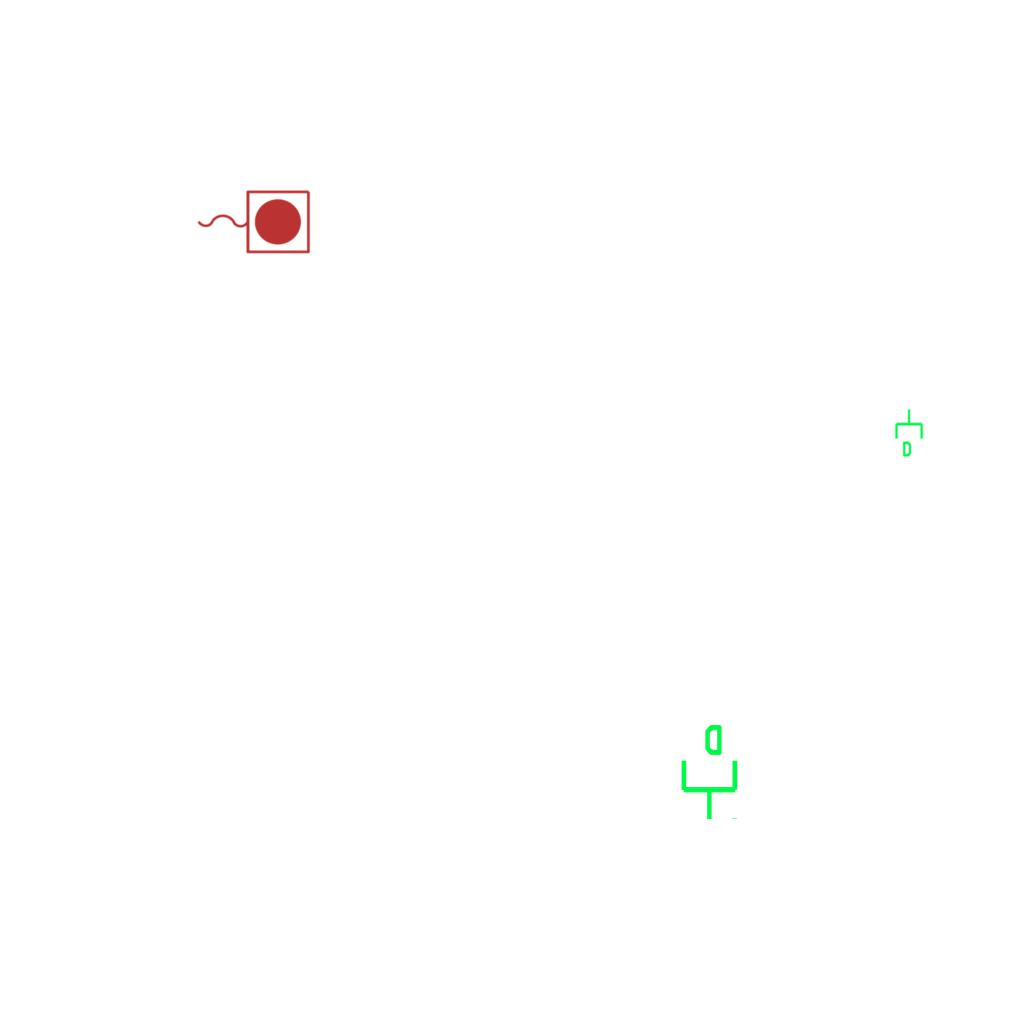Datenanschluss_einfach: (673, 722, 742, 822), (893, 408, 927, 458)
Zugtaster: (192, 185, 314, 257)
